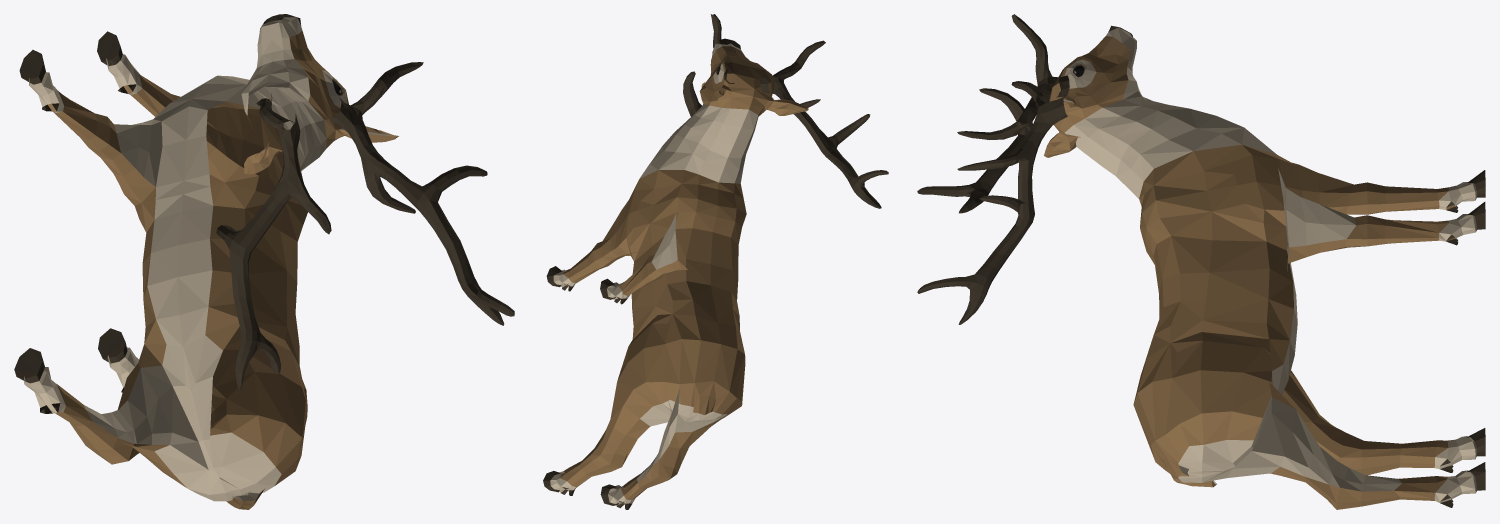
The model's file is stag-idle-0.glb.
The picture shows the model from 3 angles, left to right: view 1: azimuth 30°, elevation 25°; view 2: azimuth 150°, elevation 25°; view 3: azimuth 270°, elevation 25°; orthographic projection. The views are drawn at different scales.
Size of the model in its own units: 0.8651 by 1.65 by 1.83.
